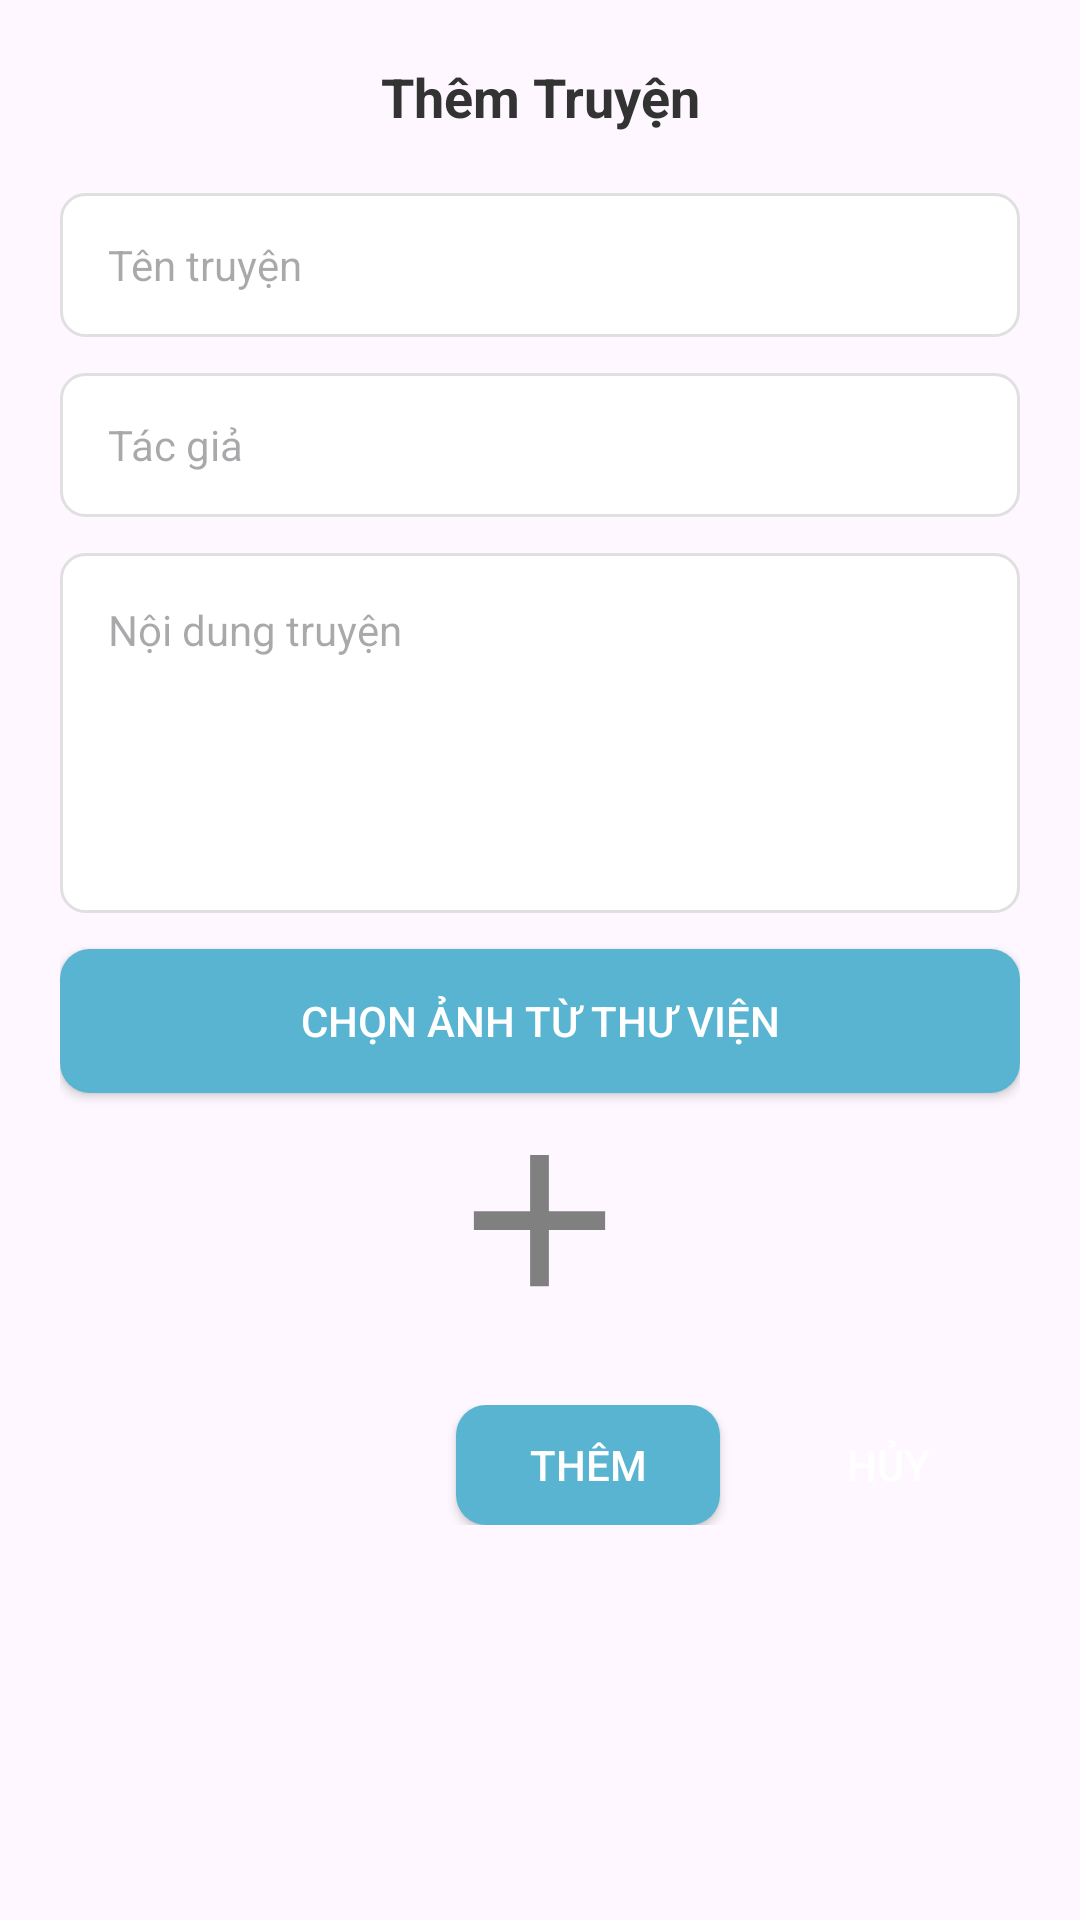

Named icons in this screenshot (1080 x 1920) and their centers, (x=x, y=y):
add placeholde: (x=539, y=1221)
